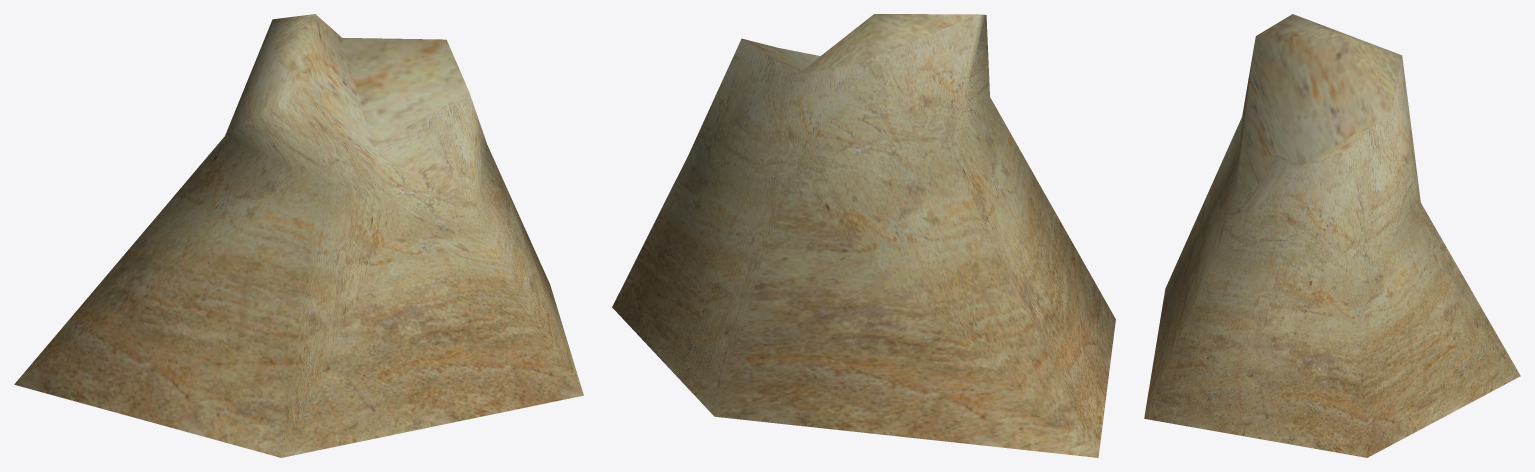
The model's file is rock_beach_spike_a1_l3.fbx.
3 views of the same model, side by side, from view 1: azimuth 30°, elevation 25°; view 2: azimuth 150°, elevation 25°; view 3: azimuth 270°, elevation 25° (orthographic). The views are drawn at different scales.
Parts seen in each view (by area): view 1: mesh_node; view 2: mesh_node; view 3: mesh_node.
Boxes of the visible parts, x1,y1,x2,y2 form: mesh_node: (14, 14, 583, 457); mesh_node: (612, 14, 1115, 457); mesh_node: (1144, 14, 1520, 457).
Bounding box in the file's own units: 7.56 × 4.83 × 5.35.
Materials: 1 (1 with a texture image).
